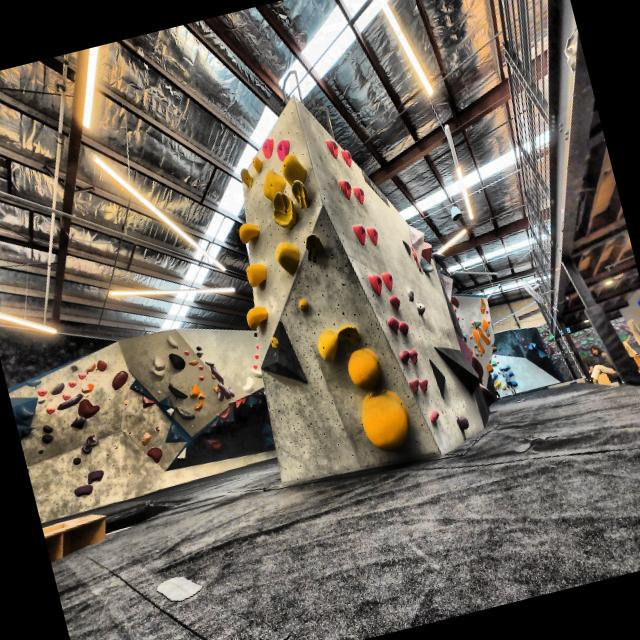Hold: (356, 384, 416, 456), (342, 344, 386, 394), (266, 190, 302, 232), (277, 148, 312, 188), (272, 238, 304, 277), (313, 326, 344, 366), (258, 166, 290, 202), (242, 304, 272, 332), (334, 320, 364, 348), (290, 176, 312, 212), (244, 262, 272, 290), (236, 219, 262, 245), (302, 229, 324, 259), (75, 395, 102, 419), (107, 368, 133, 392), (13, 396, 37, 422), (350, 220, 370, 250), (165, 378, 188, 402), (144, 443, 166, 467), (272, 136, 293, 161), (237, 372, 258, 396), (168, 349, 188, 374), (335, 176, 354, 202), (365, 222, 383, 249), (417, 239, 437, 263), (55, 393, 86, 408), (136, 389, 158, 410), (260, 136, 278, 161), (324, 136, 341, 162), (418, 254, 436, 278), (367, 272, 384, 297), (210, 362, 227, 387), (471, 328, 486, 356), (351, 184, 370, 206), (175, 400, 194, 422), (452, 412, 472, 432), (340, 147, 358, 169), (66, 413, 88, 431), (384, 314, 402, 335), (85, 468, 106, 486), (379, 270, 396, 292), (72, 483, 95, 499), (216, 378, 232, 401), (409, 240, 421, 270), (238, 166, 254, 188), (23, 373, 45, 389), (152, 352, 168, 372), (216, 403, 234, 420), (148, 364, 164, 383), (405, 375, 420, 395), (477, 325, 492, 345), (164, 331, 178, 352), (386, 294, 401, 313), (251, 154, 265, 174), (426, 407, 441, 425), (266, 334, 281, 351), (48, 381, 66, 395), (139, 432, 154, 448), (40, 431, 56, 446), (398, 319, 412, 336), (80, 381, 98, 394), (448, 292, 461, 310), (408, 348, 422, 364), (418, 379, 432, 395), (84, 432, 100, 446), (19, 425, 36, 438), (476, 296, 488, 314), (414, 300, 427, 316), (188, 382, 201, 398), (400, 237, 410, 257), (397, 348, 411, 362), (96, 358, 110, 372), (296, 296, 308, 312), (40, 422, 56, 433), (227, 382, 238, 398), (192, 346, 205, 359), (250, 366, 263, 379), (526, 339, 539, 352), (538, 348, 550, 362), (406, 288, 416, 304), (196, 389, 209, 401), (194, 401, 208, 412), (501, 369, 516, 379), (70, 454, 82, 466), (80, 444, 92, 456), (492, 378, 504, 390), (213, 391, 226, 402), (210, 440, 224, 450), (484, 360, 494, 374), (498, 363, 512, 373), (481, 316, 490, 331), (203, 356, 216, 366), (506, 380, 520, 389), (86, 361, 97, 372), (165, 404, 175, 416), (193, 342, 205, 352), (36, 387, 48, 397), (76, 371, 87, 381), (67, 378, 77, 389), (61, 390, 72, 400), (182, 346, 191, 357), (473, 317, 482, 328), (154, 424, 162, 436), (44, 407, 56, 415), (197, 372, 206, 382), (490, 372, 500, 381), (187, 358, 198, 366), (196, 362, 206, 370), (241, 394, 248, 404), (70, 364, 78, 372), (252, 352, 260, 360), (490, 358, 498, 366), (500, 384, 508, 392), (37, 398, 47, 404), (210, 418, 217, 426), (250, 363, 258, 370), (124, 397, 130, 405), (36, 449, 43, 455), (254, 343, 259, 351), (455, 315, 461, 321), (472, 342, 478, 348), (468, 332, 473, 339), (470, 319, 474, 326), (452, 308, 458, 312), (170, 422, 173, 429), (179, 436, 184, 440), (475, 351, 479, 356)
